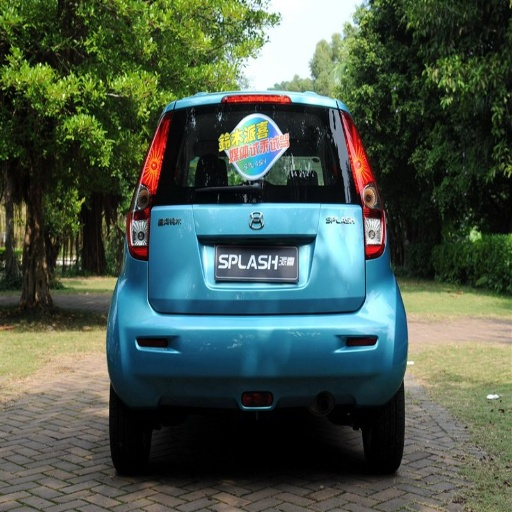back_bumper: (107, 257, 407, 417)
tailgate: (181, 223, 359, 309)
trunk: (148, 169, 361, 312)
